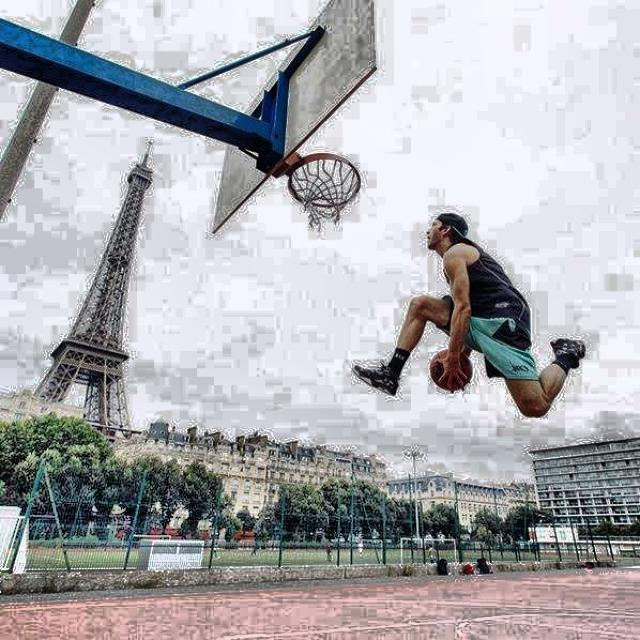rim: (290, 154, 361, 228)
